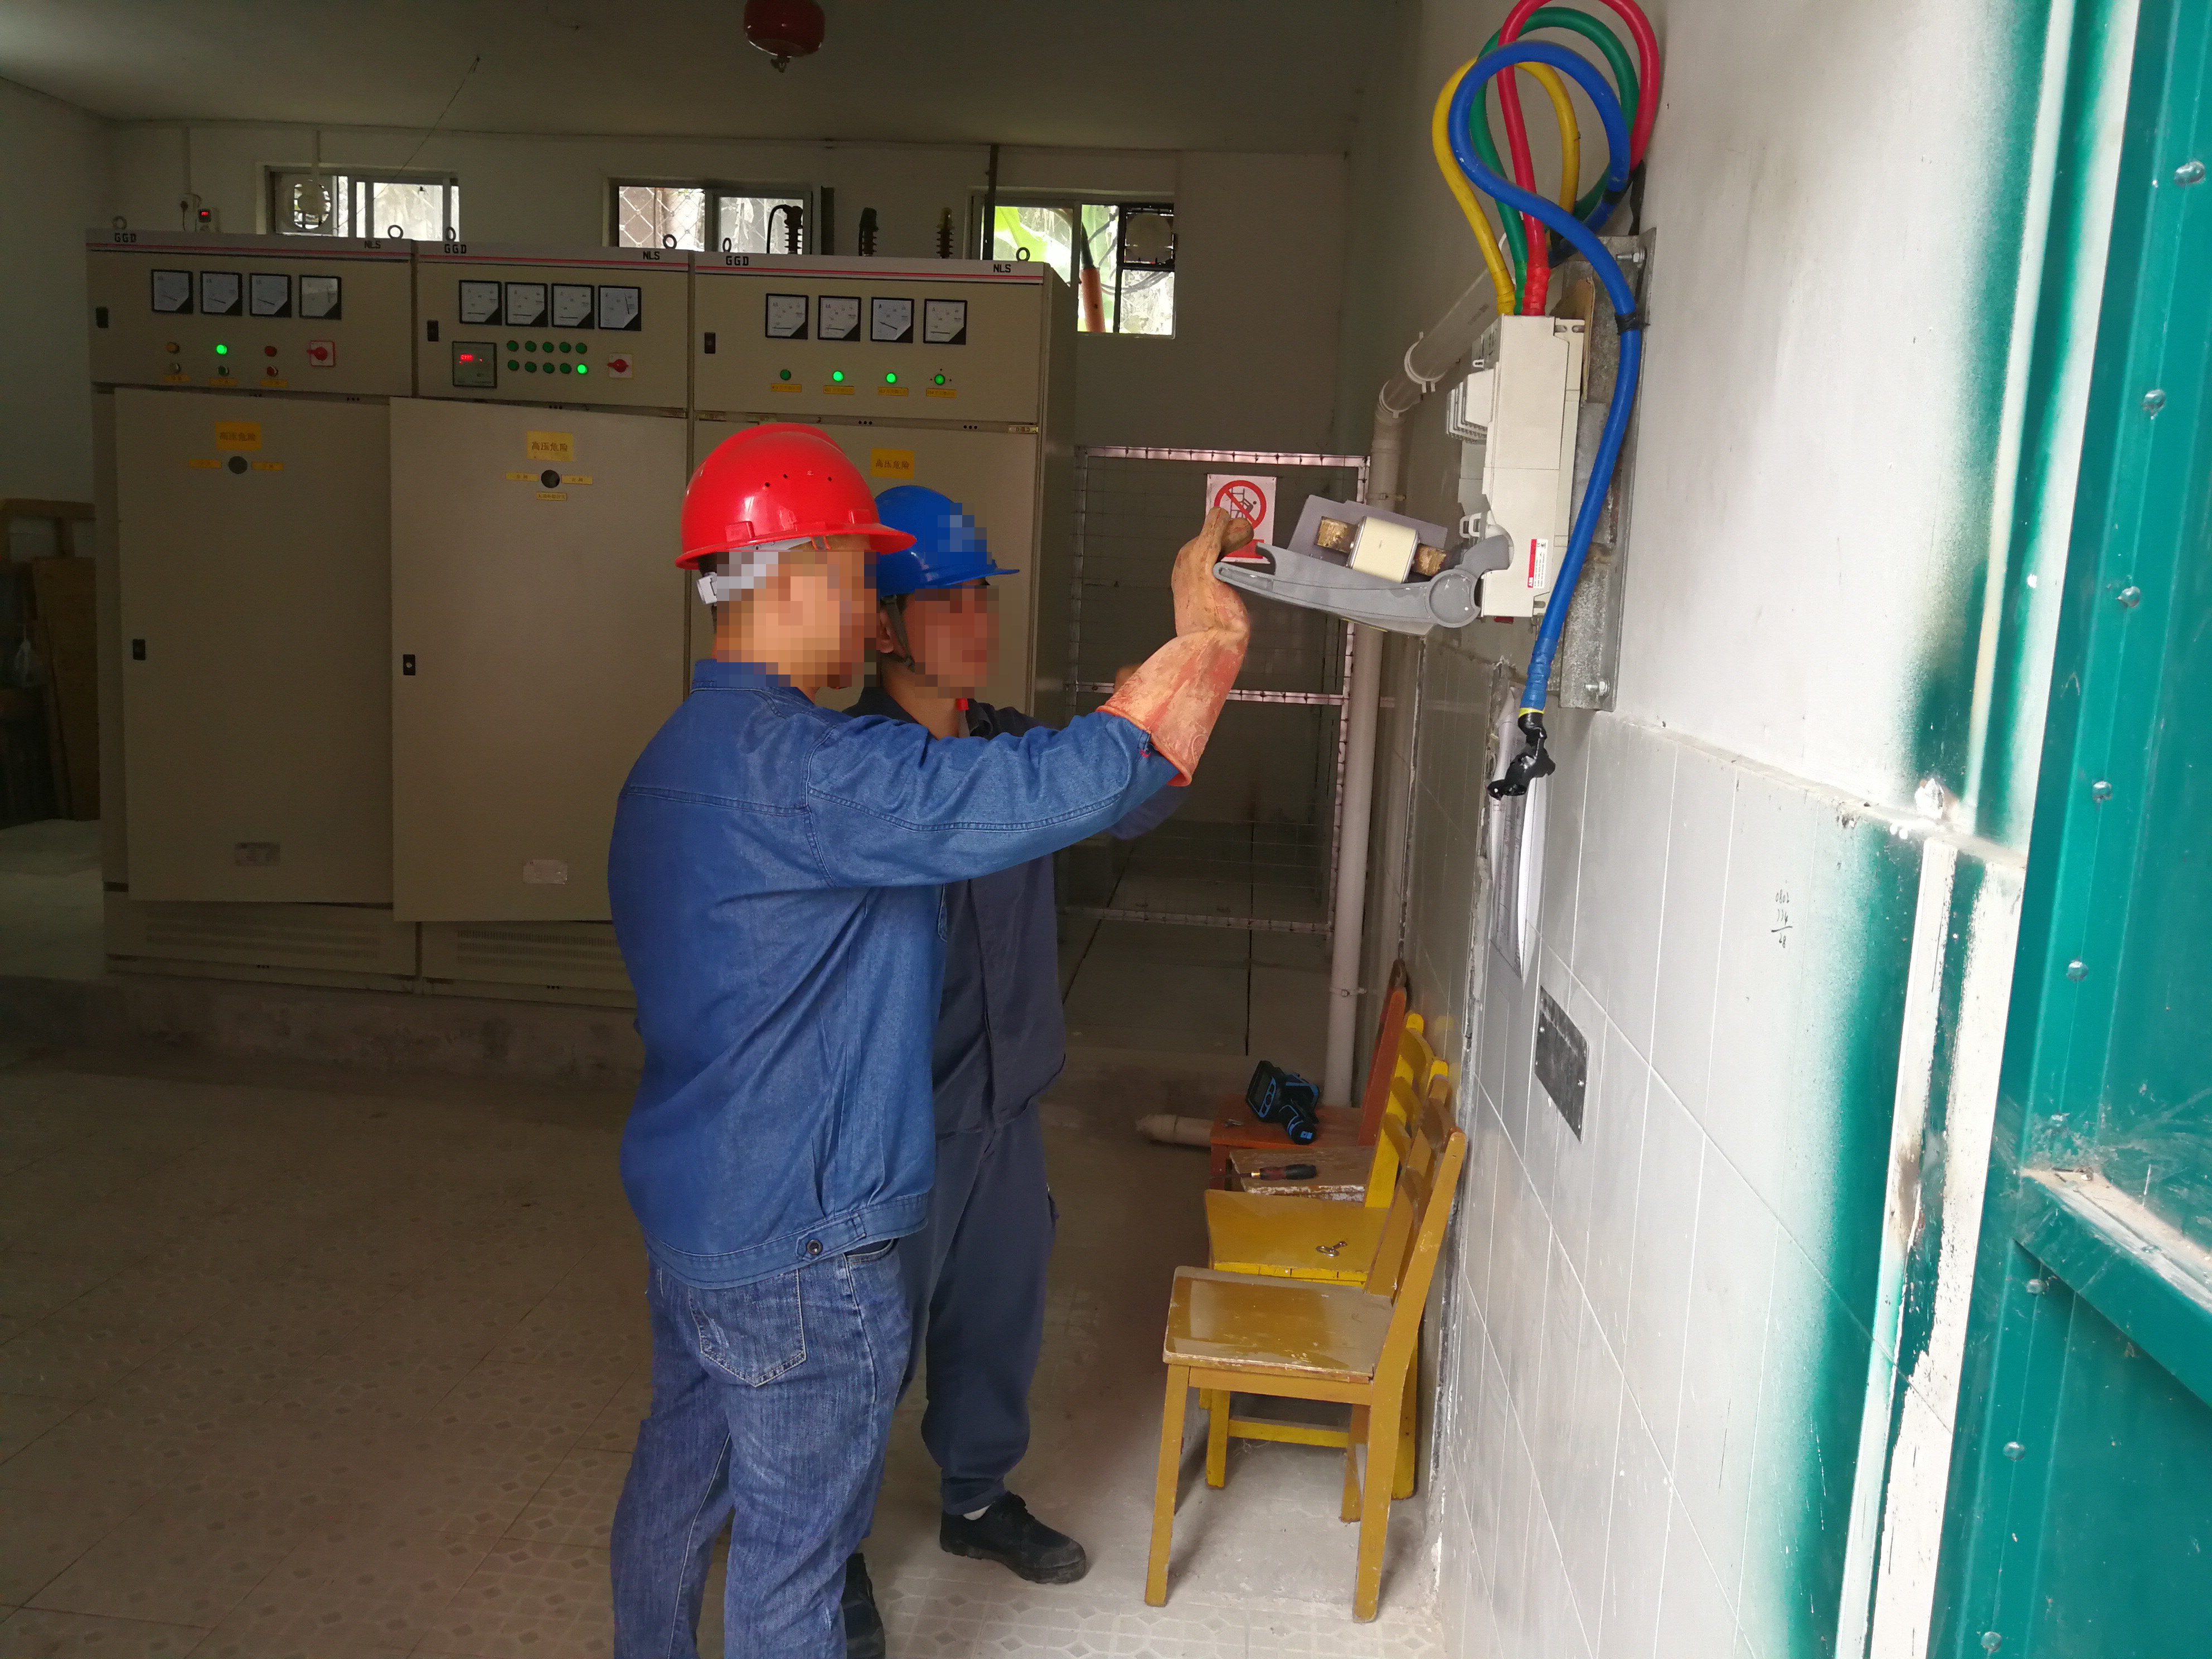downcloth: (594, 1292, 914, 1659)
downsuit: (926, 1142, 1060, 1515)
halt: (668, 417, 916, 706), (875, 484, 1026, 695)
longglove: (1098, 507, 1263, 788)
outear: (761, 524, 870, 692)
person: (568, 414, 1259, 1646)
upcloth: (601, 654, 1119, 1281)
upsuit: (852, 667, 1081, 1104)
